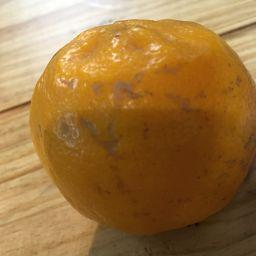Ripe: (28, 20, 255, 238)
